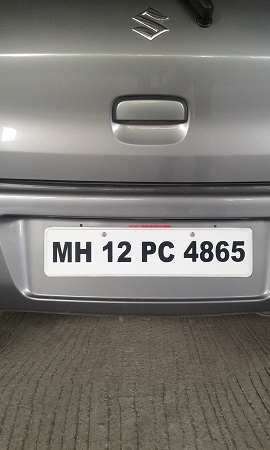licenseplate: (42, 224, 256, 281)
